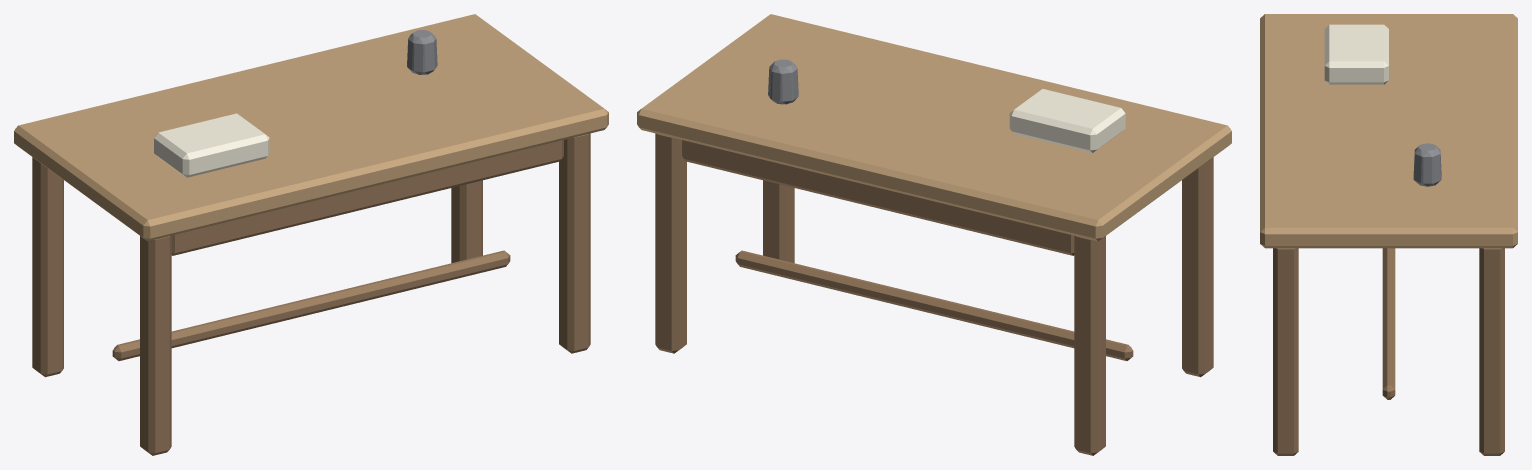
The model's file is Table.fbx.
The picture shows the model from 3 angles, left to right: view 1: azimuth 30°, elevation 25°; view 2: azimuth 150°, elevation 25°; view 3: azimuth 270°, elevation 25°; orthographic projection. The views are drawn at different scales.
Parts seen in each view (by area): view 1: Table; view 2: Table; view 3: Table.
Part boxes in pixels (x1,y1,x2,y2): Table: (14,14,608,455); Table: (637,14,1231,455); Table: (1260,14,1517,455).
Size of the model in its own units: 1.6 by 0.92 by 0.8.
